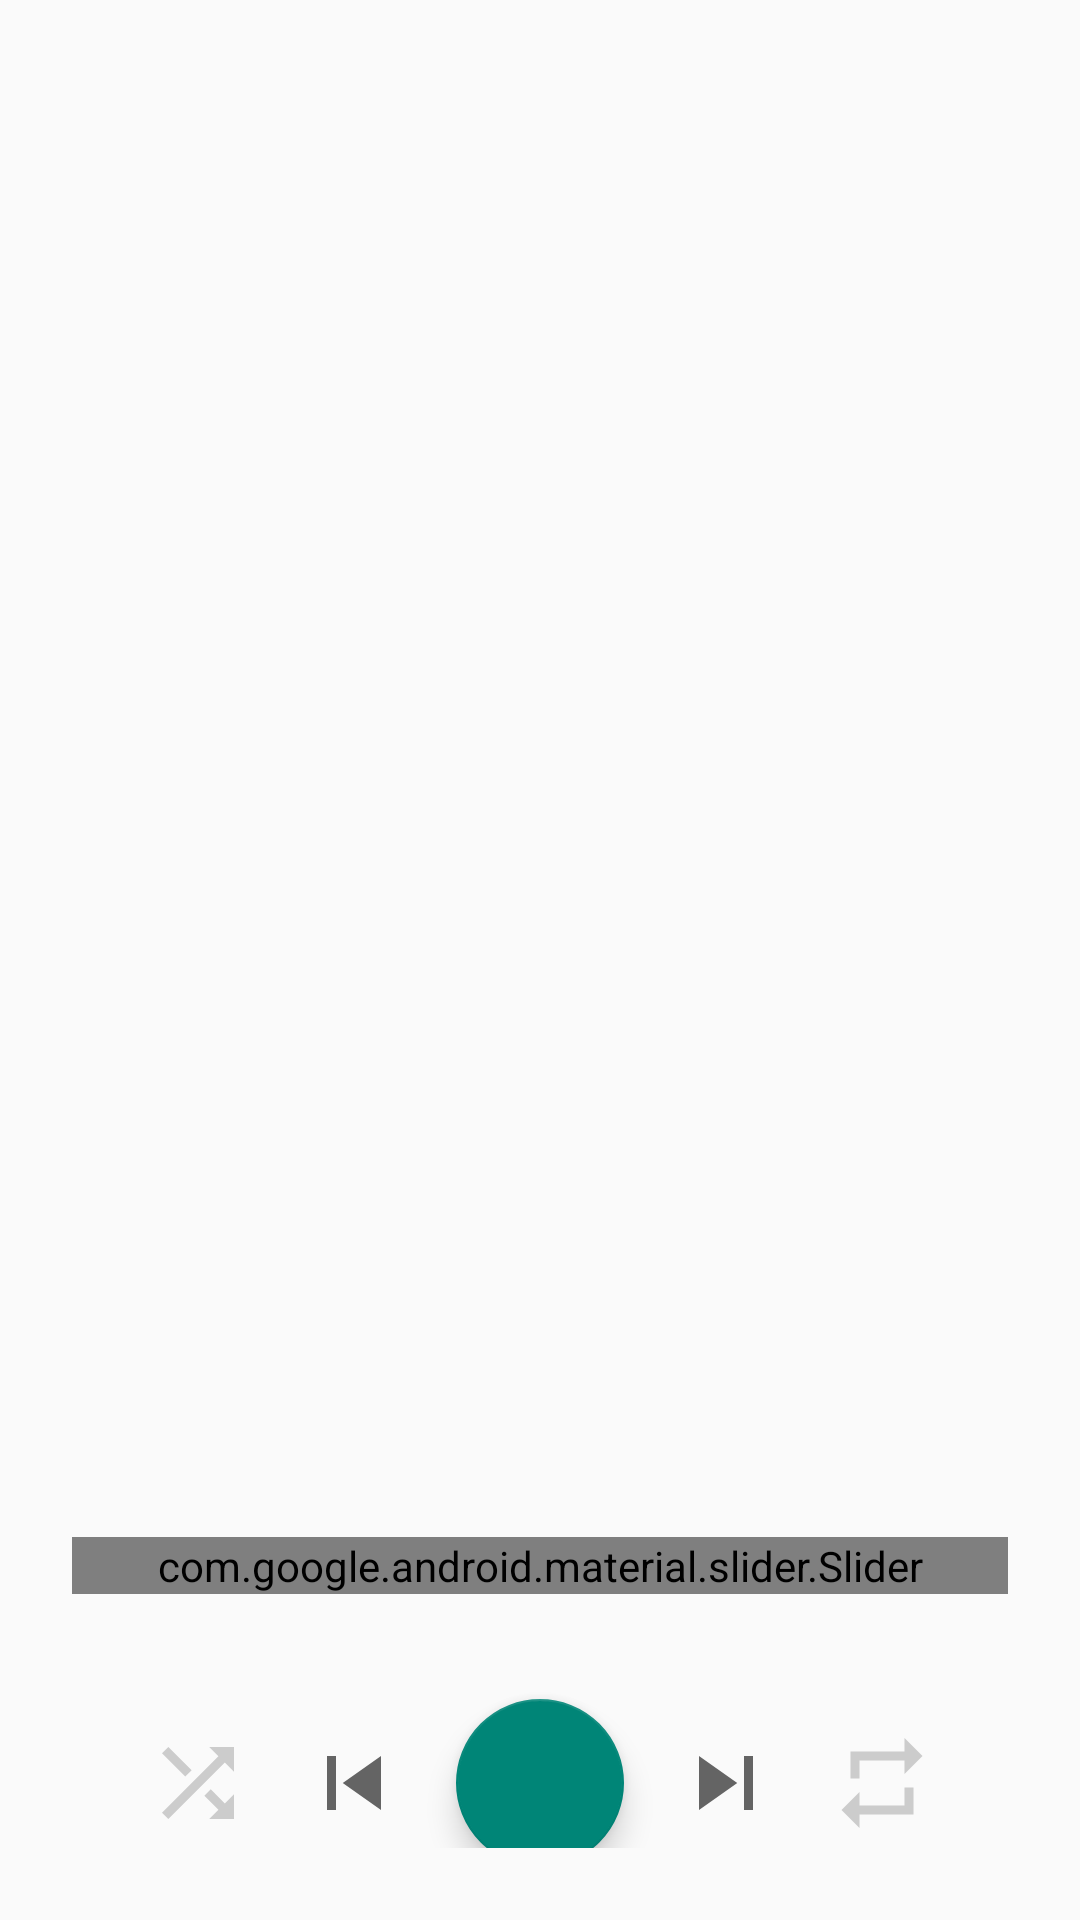

Point at icon controls on the screen. Image size 1080 x 1920, points as (x=x, y=y).
Loop current track: (x=882, y=1783)
Shuffle current queue: (x=198, y=1783)
Skip to next track: (x=726, y=1783)
Skip to previous track: (x=354, y=1783)
